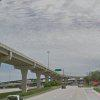Bridge: (1, 31, 68, 87)
